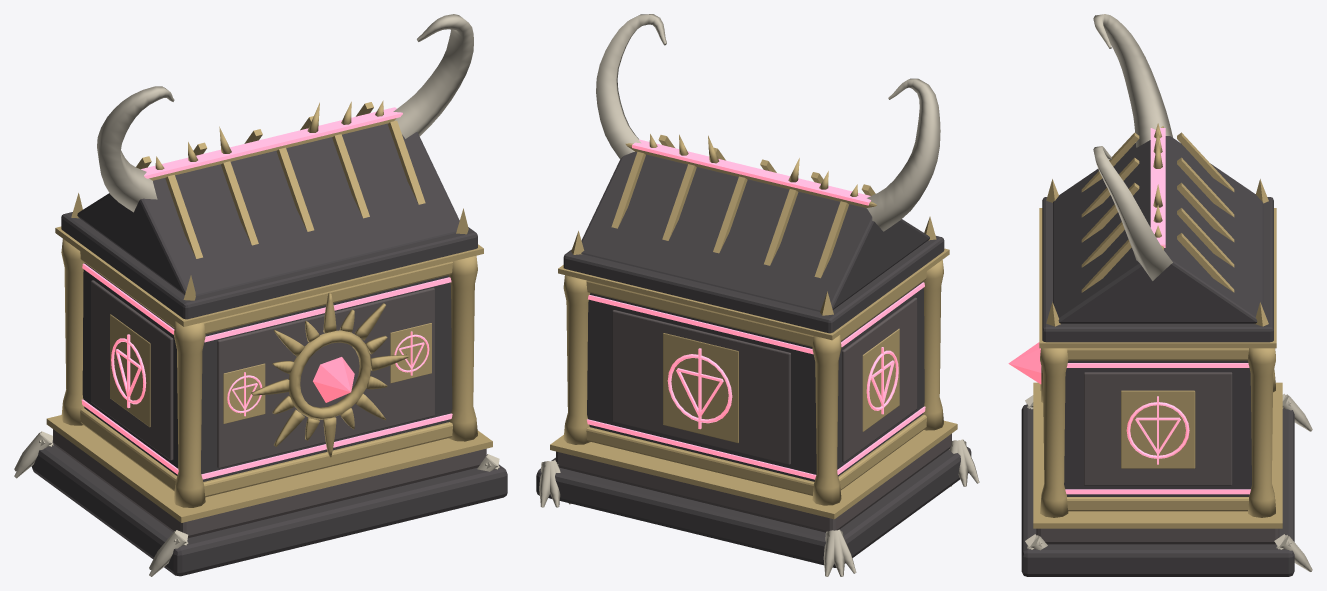
The model's file is reliquary.glb.
3 views of the same model, side by side, from view 1: azimuth 30°, elevation 25°; view 2: azimuth 150°, elevation 25°; view 3: azimuth 270°, elevation 25° (orthographic). The views are drawn at different scales.
Visible parts, largest first — view 1: casket_mesh, lid_mesh, front_mesh, sigil_sideR_mesh, sigil_f-1_mesh, sigil_f1_mesh, foot-1-1_mesh, foot-11_mesh; view 2: casket_mesh, lid_mesh, sigil_back_mesh, sigil_sideR_mesh, foot-11_mesh, foot11_mesh, foot-1-1_mesh; view 3: casket_mesh, lid_mesh, sigil_sideL_mesh, front_mesh, foot11_mesh, foot-11_mesh.
Part boxes in pixels (box(x1,y1,x2,y2)): casket_mesh: box(31, 193, 507, 576); lid_mesh: box(55, 14, 483, 326); front_mesh: box(217, 288, 434, 468); sigil_sideR_mesh: box(110, 314, 150, 427); sigil_f-1_mesh: box(223, 363, 265, 423); sigil_f1_mesh: box(390, 323, 431, 383); foot-1-1_mesh: box(149, 530, 188, 576); foot-11_mesh: box(14, 431, 53, 478); casket_mesh: box(536, 216, 971, 567); lid_mesh: box(558, 14, 949, 340); sigil_back_mesh: box(663, 333, 738, 443); sigil_sideR_mesh: box(862, 328, 899, 431); foot-11_mesh: box(823, 529, 856, 576); foot11_mesh: box(539, 460, 570, 507); foot-1-1_mesh: box(949, 439, 979, 486); casket_mesh: box(1021, 179, 1294, 576); lid_mesh: box(1039, 14, 1276, 348); sigil_sideL_mesh: box(1121, 390, 1195, 468); front_mesh: box(1008, 342, 1043, 402); foot11_mesh: box(1274, 534, 1312, 571); foot-11_mesh: box(1282, 393, 1312, 431).
Size of the model in its own units: 1.33 by 1.57 by 1.03.
